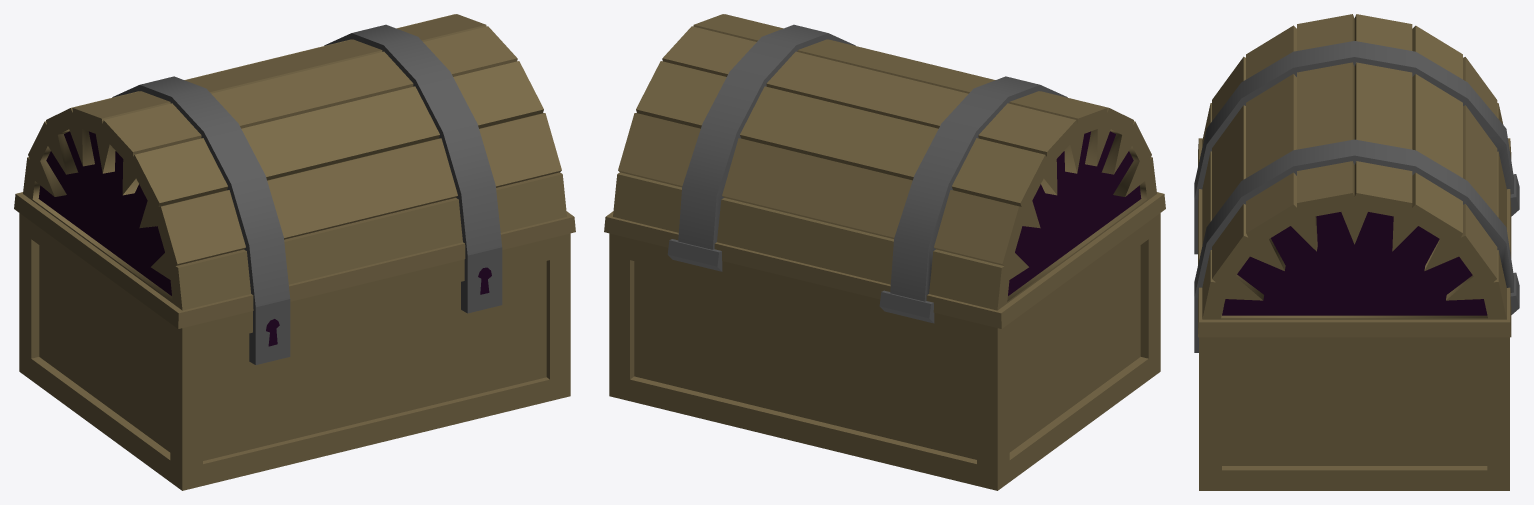
File: startertruhe.fbx
3 views of the same model, side by side, from view 1: azimuth 30°, elevation 25°; view 2: azimuth 150°, elevation 25°; view 3: azimuth 270°, elevation 25° (orthographic). The views are drawn at different scales.
Visible parts, largest first — view 1: Cylinder.006, Plane.001; view 2: Cylinder.006, Plane.001; view 3: Cylinder.006, Plane.001.
Boxes of the visible parts, x1=… form: Cylinder.006: x1=14, y1=14, x2=575, y2=364; Plane.001: x1=19, y1=213, x2=570, y2=490; Cylinder.006: x1=604, y1=14, x2=1165, y2=328; Plane.001: x1=609, y1=213, x2=1160, y2=490; Cylinder.006: x1=1194, y1=14, x2=1519, y2=352; Plane.001: x1=1199, y1=337, x2=1509, y2=490.
Bounding box in the file's own units: 162 × 123 × 120.
